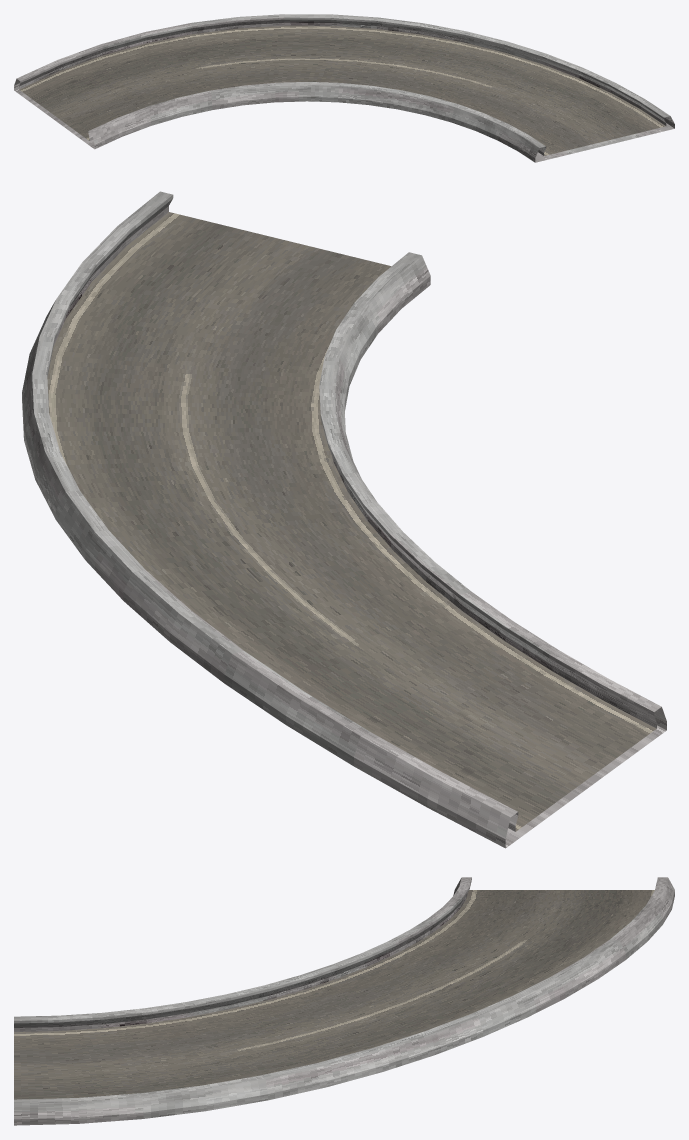
File: road-Turn-Flat-BiSlopeDown-Down1-Left-Size3.glb
3 views of the same model, one above another, from view 1: azimuth 30°, elevation 25°; view 2: azimuth 150°, elevation 25°; view 3: azimuth 270°, elevation 25° (orthographic). The views are drawn at different scales.
Parts seen in each view (by area): view 1: road-Turn-Flat-BiSlopeDown-Down1-Left-Size3; view 2: road-Turn-Flat-BiSlopeDown-Down1-Left-Size3; view 3: road-Turn-Flat-BiSlopeDown-Down1-Left-Size3.
Boxes of the visible parts, box(x1,y1,x2,y2) form: road-Turn-Flat-BiSlopeDown-Down1-Left-Size3: box(14, 14, 674, 162); road-Turn-Flat-BiSlopeDown-Down1-Left-Size3: box(22, 191, 666, 848); road-Turn-Flat-BiSlopeDown-Down1-Left-Size3: box(14, 877, 674, 1125).
Size of the model in its own units: 3 by 0.3744 by 3.
2 materials, 2 textured.
